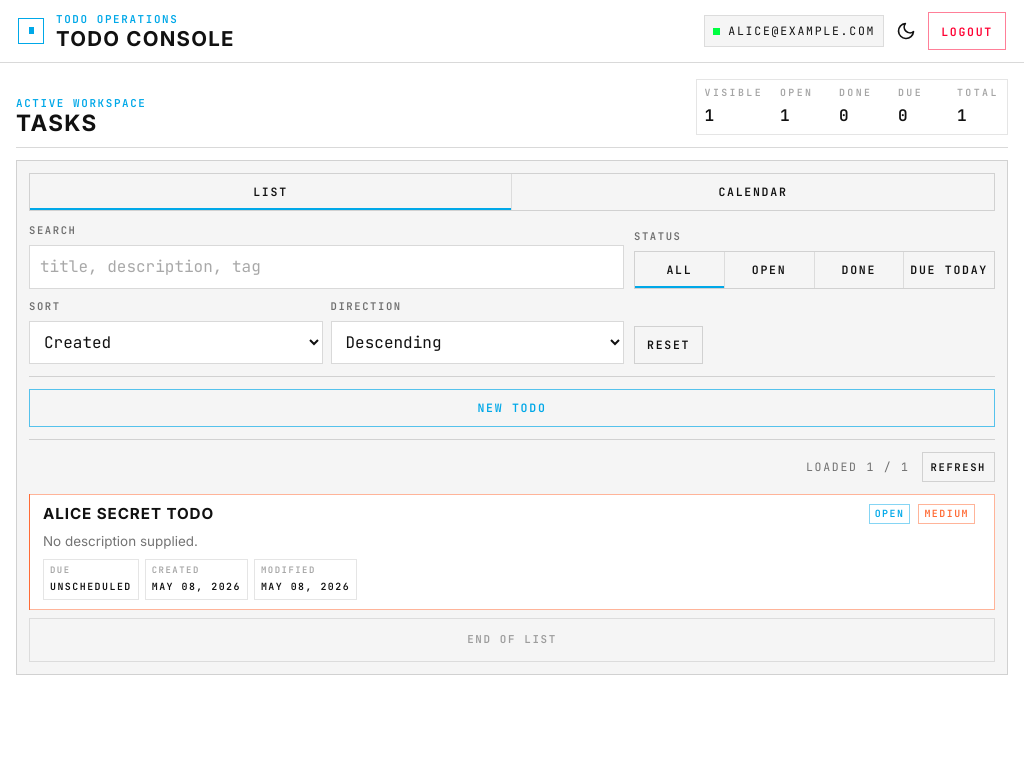
auth boundary discipline › AliceLogsOut_BobLogsIn_BobsFirstPaint_ShowsNoAliceRows
Check: the heading "Alice secret todo" is shown, box x1=43 y1=504 x2=214 y2=523
Click the button "Logout" at (967, 31), box x1=928 y1=12 x2=1006 y2=50
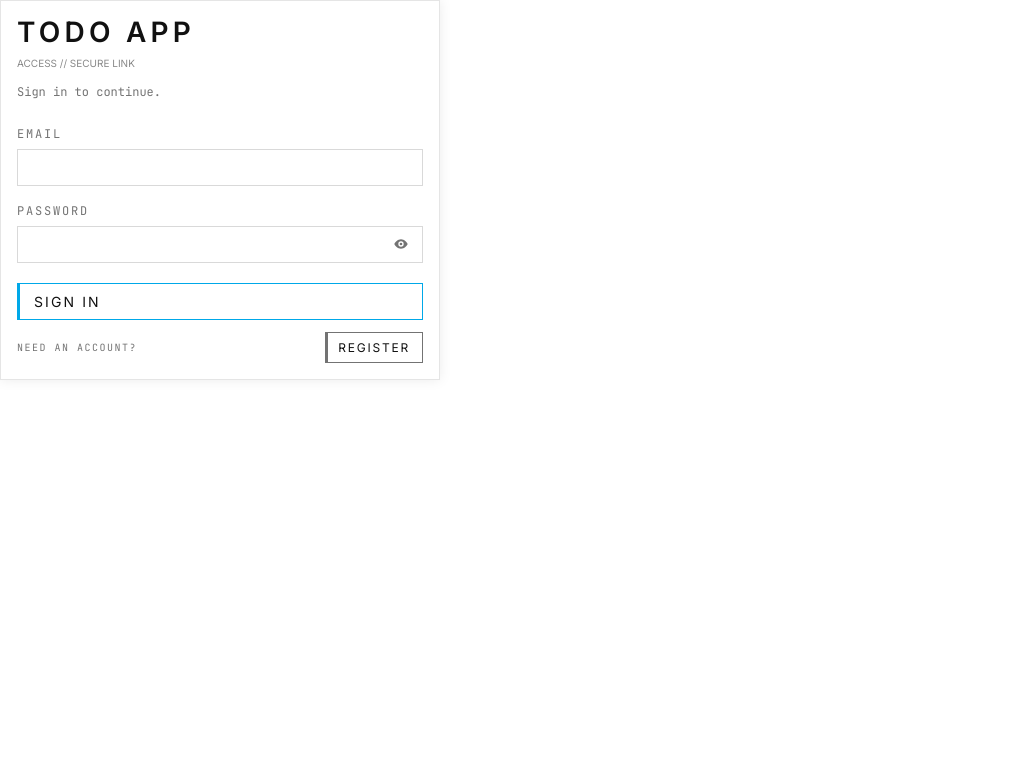
Check: the field labelled "Email" is shown
Type "bob@example.com" into the field labelled "Email" at (220, 167), box x1=17 y1=149 x2=423 y2=186
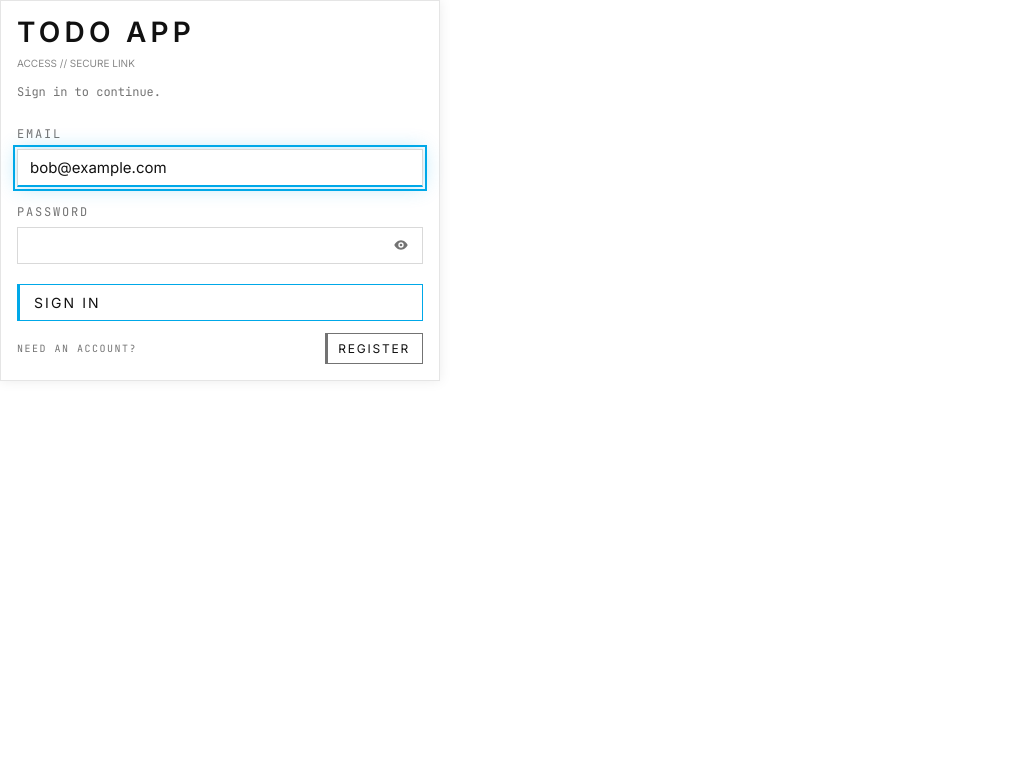
Type "Password1!" into the password field labelled "Password" at (220, 245), box x1=17 y1=227 x2=423 y2=264
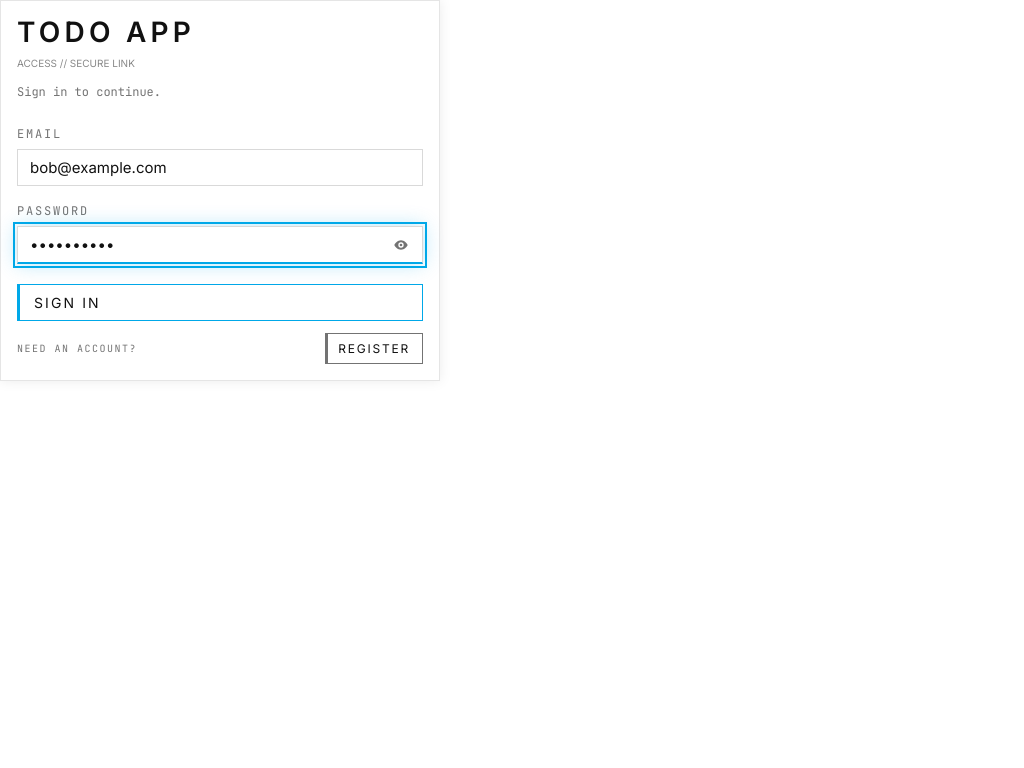
Click the button "Sign in" at (67, 302), box x1=17 y1=284 x2=423 y2=321
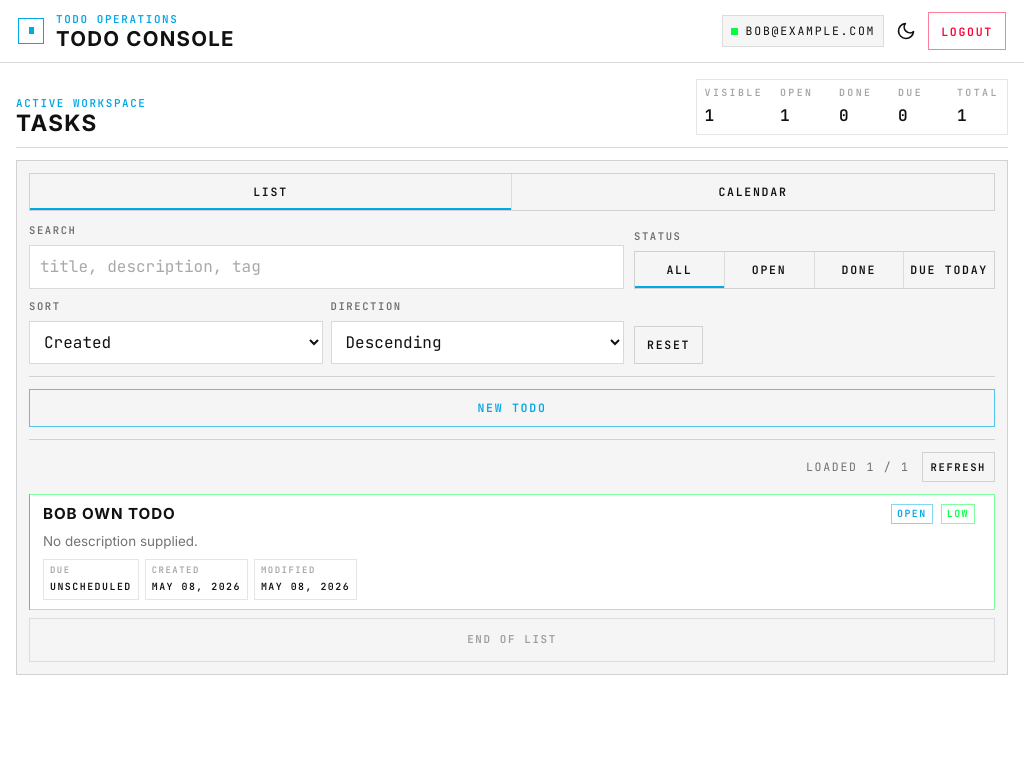
Check: the heading "Alice secret todo" is not shown
Check: the heading "Bob own todo" is shown, box x1=43 y1=504 x2=176 y2=523
